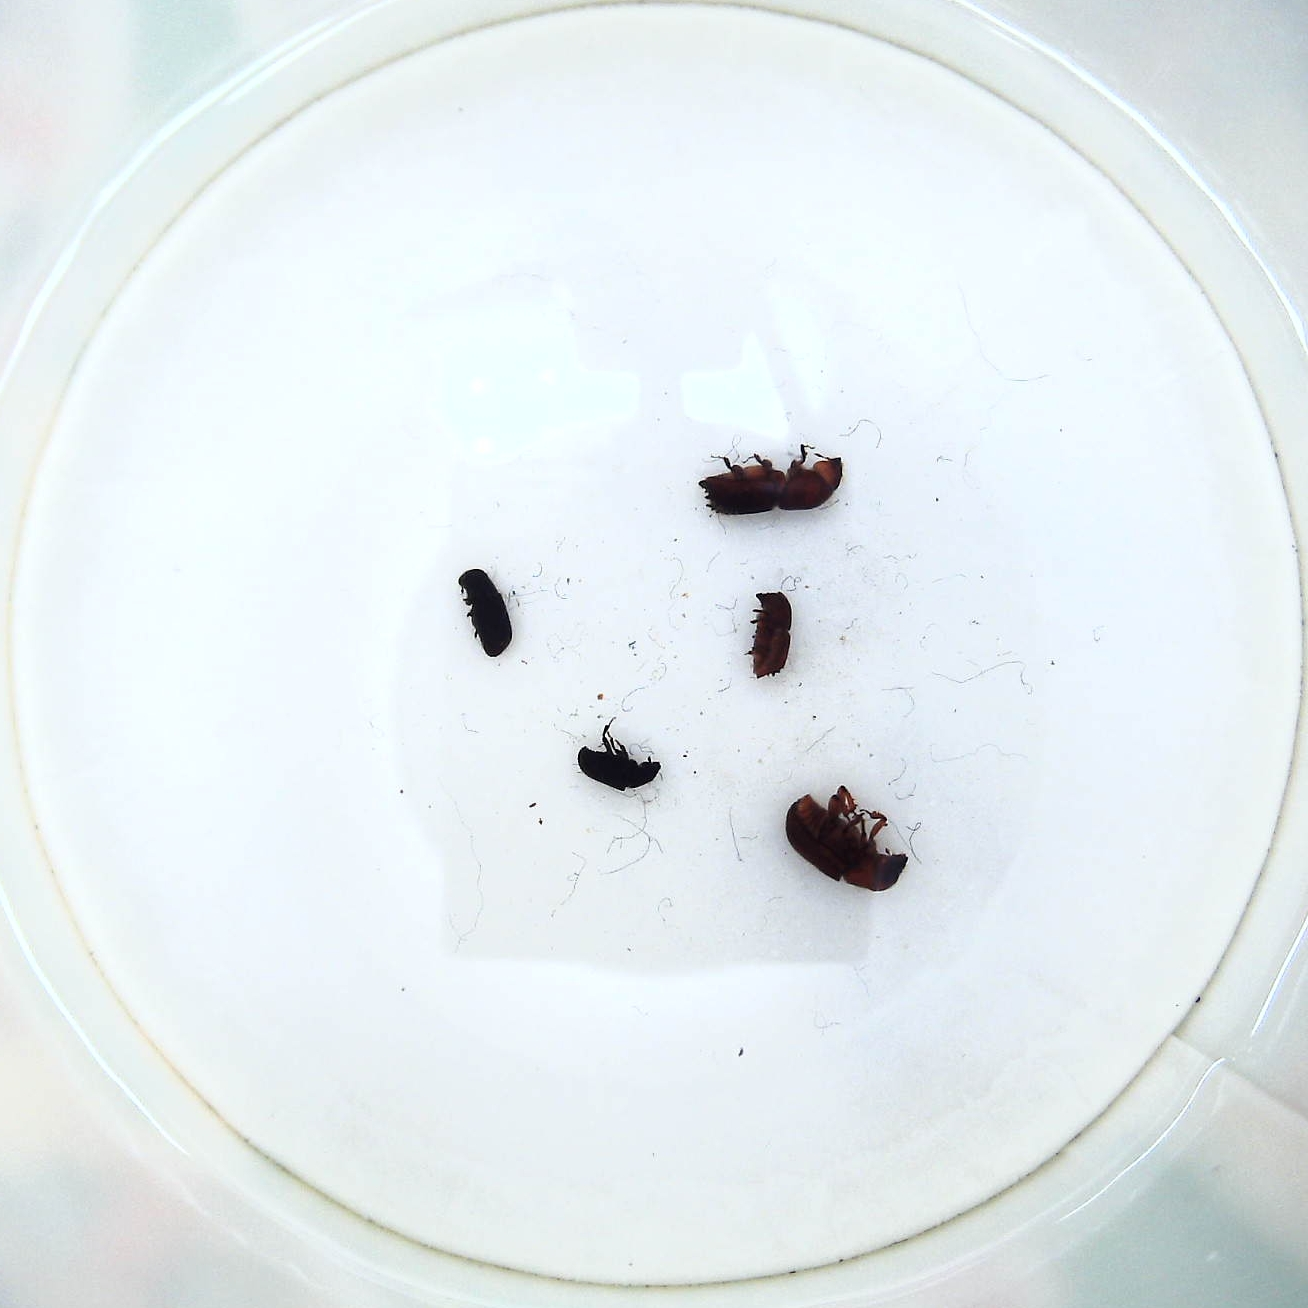Boerner: (701, 443, 842, 523)
Leconte: (779, 785, 910, 900)
armandi: (452, 561, 515, 665)
coleoptera: (574, 716, 664, 794)
linnaeus: (745, 585, 797, 686)
